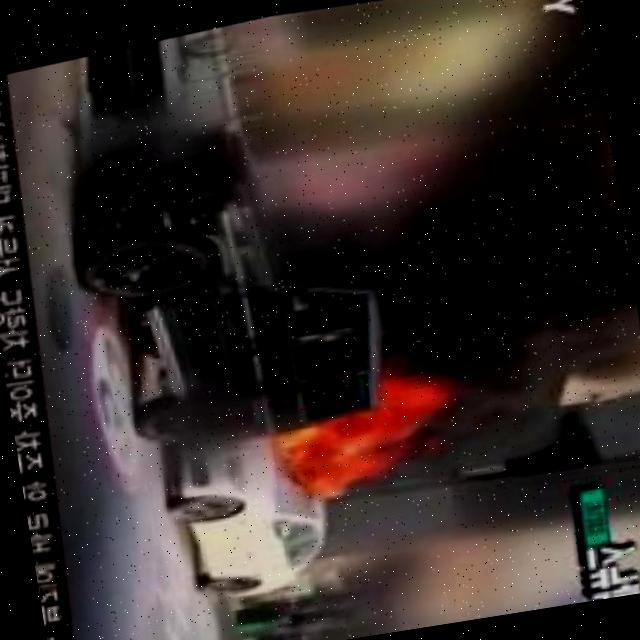fire: (269, 356, 483, 515)
